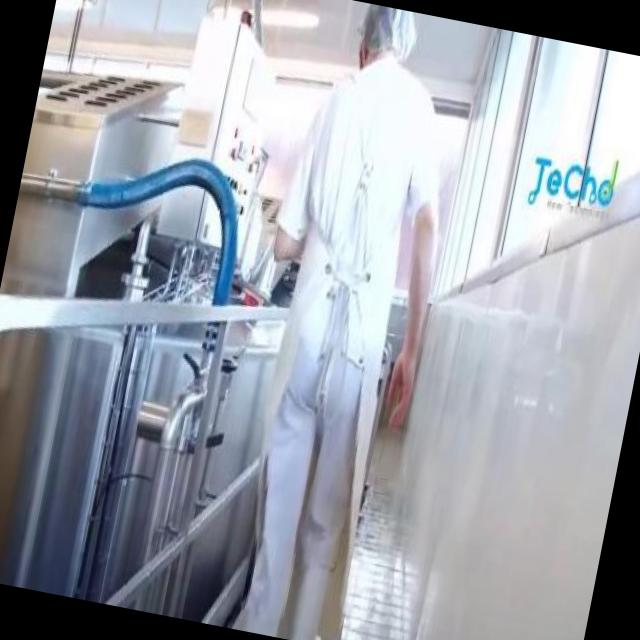hairnet: (358, 3, 419, 58)
